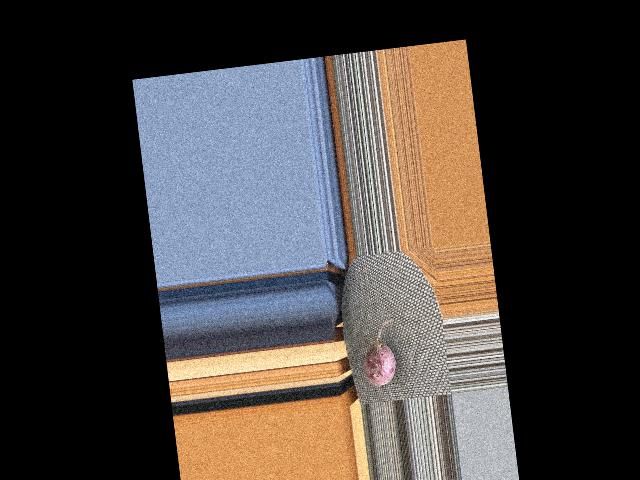beet: (358, 318, 401, 387)
